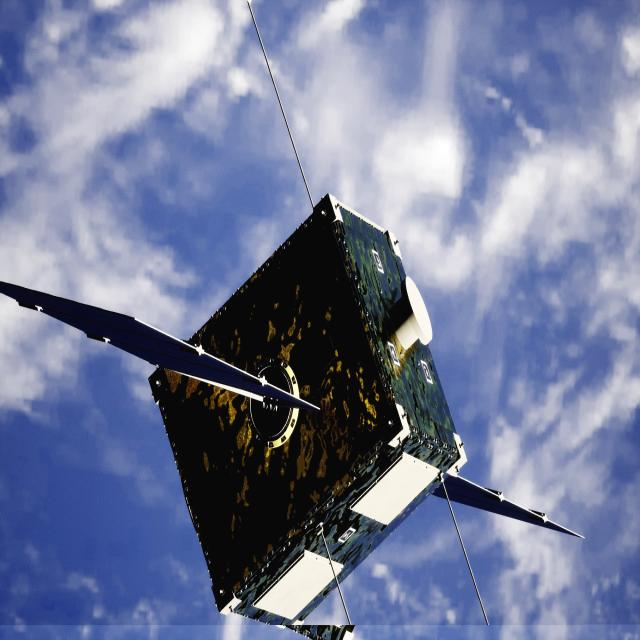medium_debris: (0, 196, 576, 630)
